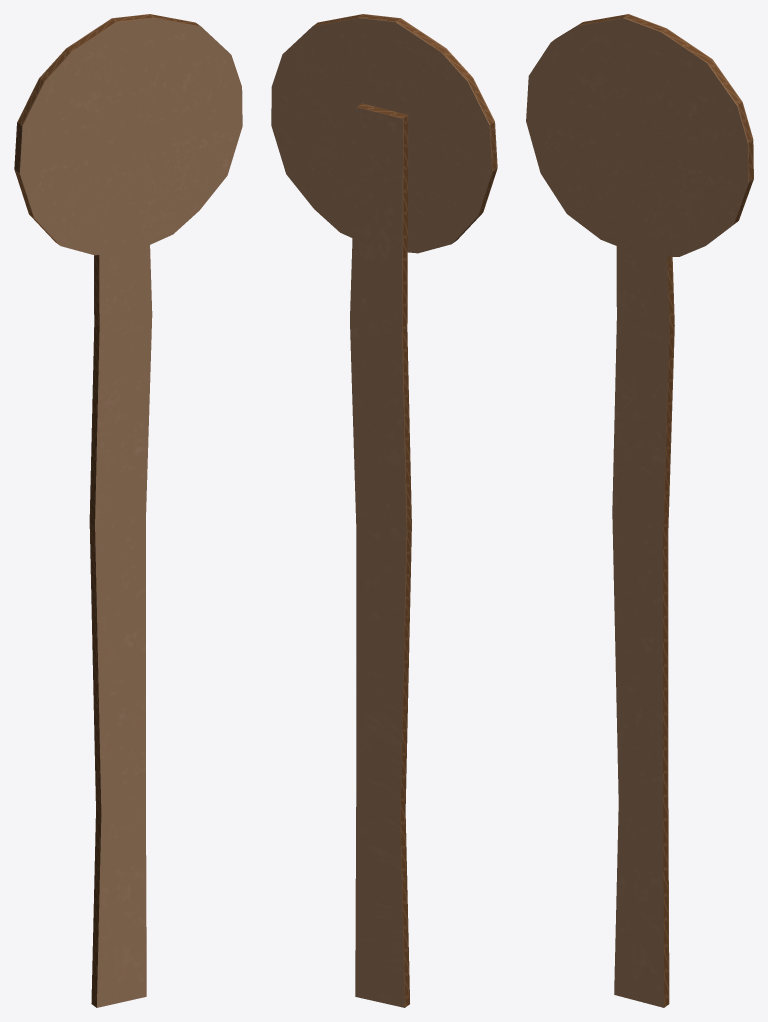
The model's file is pruebaObjetoUnicelular.fbx.
3 renders of one model, left to right at view 1: azimuth 30°, elevation 25°; view 2: azimuth 150°, elevation 25°; view 3: azimuth 330°, elevation 25°, orthographic.
Parts seen in each view (by area): view 1: Palo.001; view 2: Palo.001; view 3: Palo.001.
Boxes of the visible parts, box(x1,y1,x2,y2) form: Palo.001: box(14, 14, 242, 1007); Palo.001: box(271, 14, 497, 1007); Palo.001: box(526, 14, 753, 1007).
Size of the model in its own units: 9.42 by 39.87 by 0.804.
2 materials, 2 textured.
